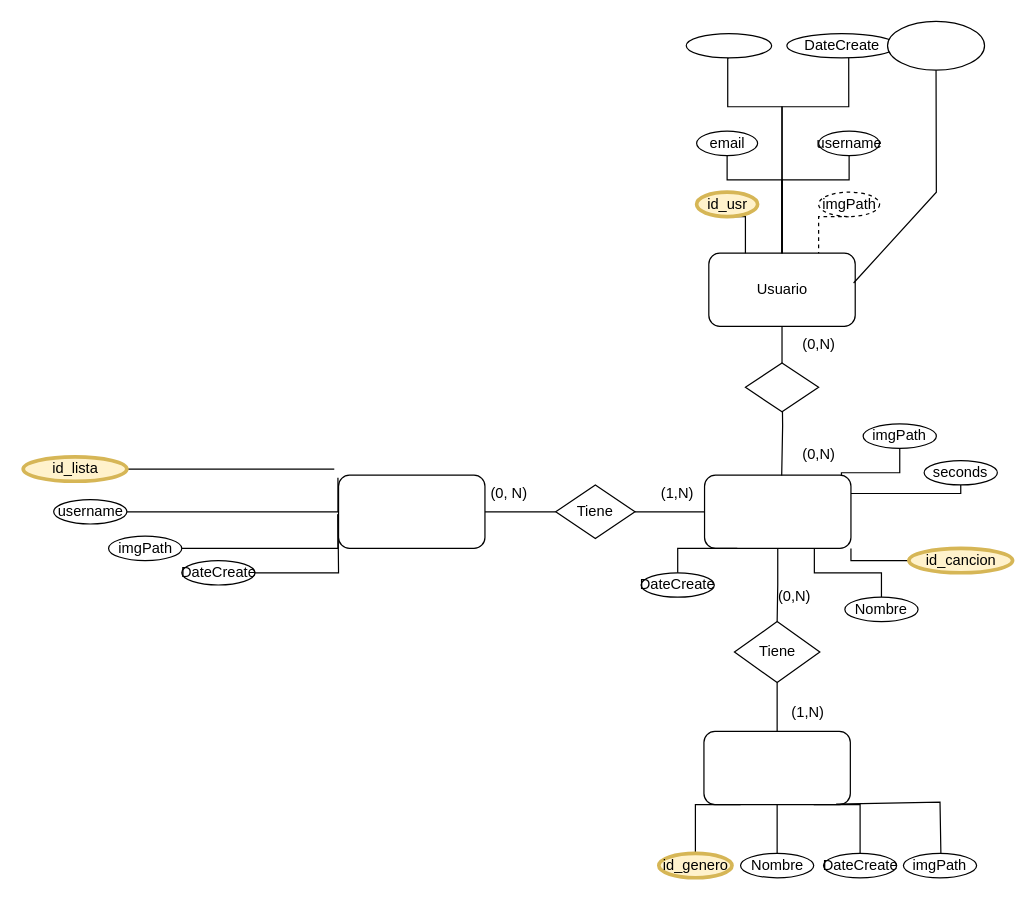
Some shapes in this 1035 by 900 pixel diagram are drawn without their labels. Here are the shapes that lost their labels. From the top down, the centre of each, then its label:
the point at 728,45: password
the point at 935,45: birthDate
the point at 781,387: Reproduce
the point at 411,511: Playlist
the point at 777,511: Cancion
the point at 776,767: Genero
